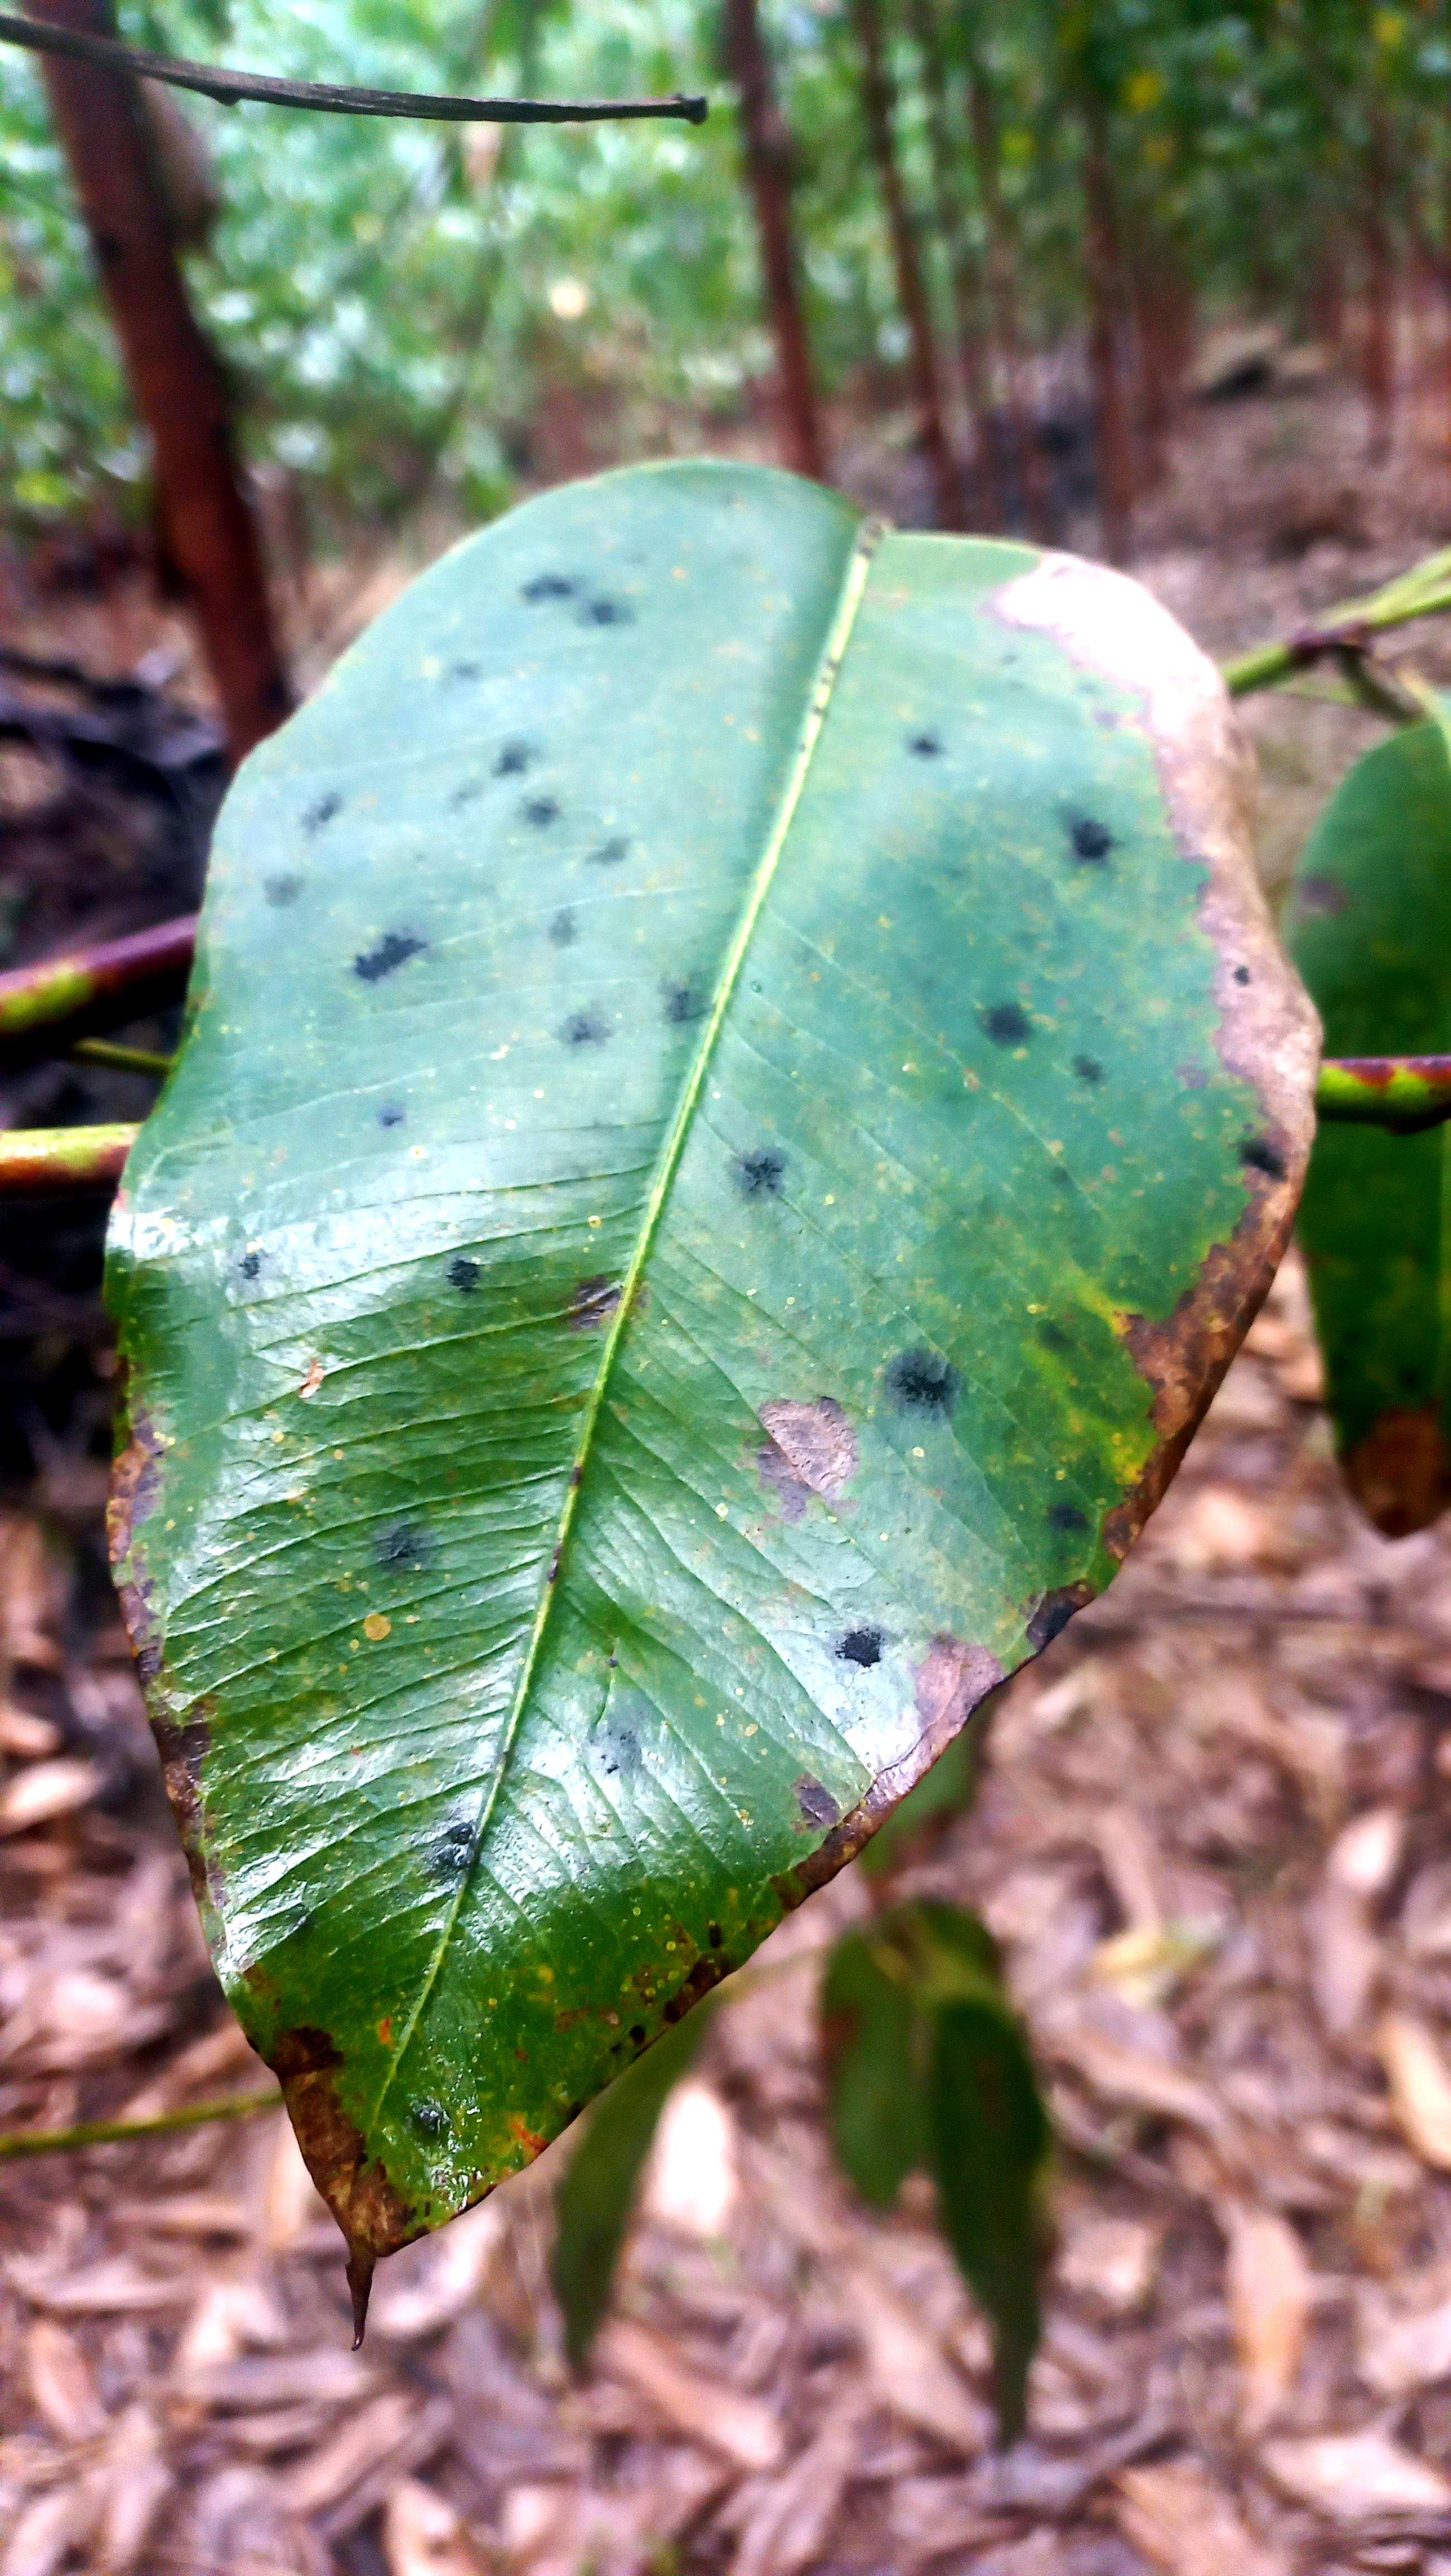Cylindrocladium: (1044, 540, 1327, 1587), (173, 1994, 469, 2358)
Embun Jelaga: (119, 458, 1032, 1911)
